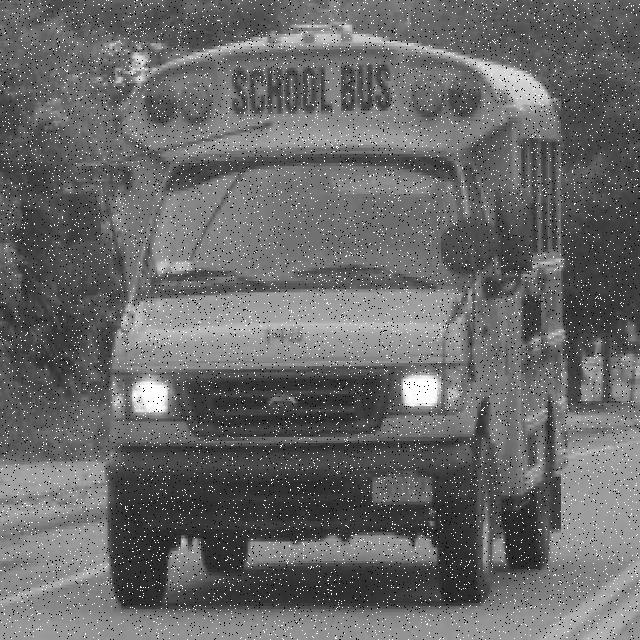Bus- Small: (58, 27, 569, 610)
